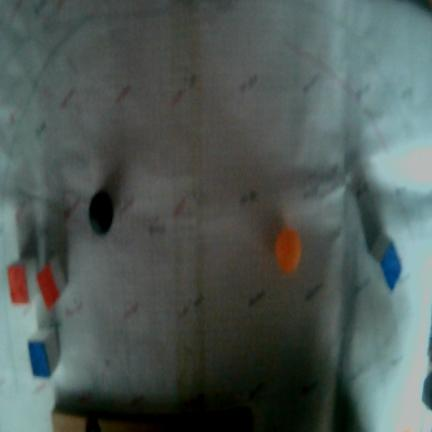circle_blue: (89, 191, 113, 235)
circle_orange: (275, 227, 301, 274)
rectangle_blue: (380, 240, 403, 291)
square_blue: (29, 341, 52, 376)
square_orange: (7, 264, 30, 305)
